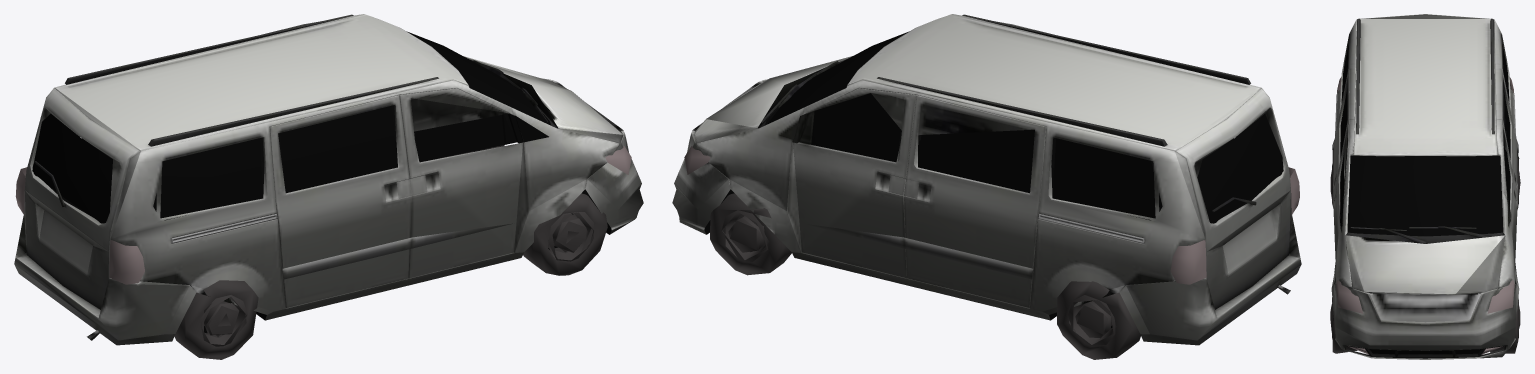
File: pc-minivan-white.lod1.glb
The picture shows the model from 3 angles, left to right: view 1: azimuth 30°, elevation 25°; view 2: azimuth 150°, elevation 25°; view 3: azimuth 270°, elevation 25°; orthographic projection. The views are drawn at different scales.
Visible parts, largest first — view 1: minivan body_Body_0, Wheel_D_Wheel_0; view 2: minivan body_Body_0, Wheel_D_Wheel_0; view 3: minivan body_Body_0, Wheel_D_Wheel_0.
Part boxes in pixels (x1,y1,x2,y2): minivan body_Body_0: [14, 14, 643, 345]; Wheel_D_Wheel_0: [15, 31, 631, 359]; minivan body_Body_0: [672, 14, 1301, 345]; Wheel_D_Wheel_0: [684, 31, 1299, 359]; minivan body_Body_0: [1331, 14, 1519, 359]; Wheel_D_Wheel_0: [1330, 44, 1520, 354].
Size of the model in its own units: 4.53 by 1.74 by 1.7.
2 materials, 1 textured.
